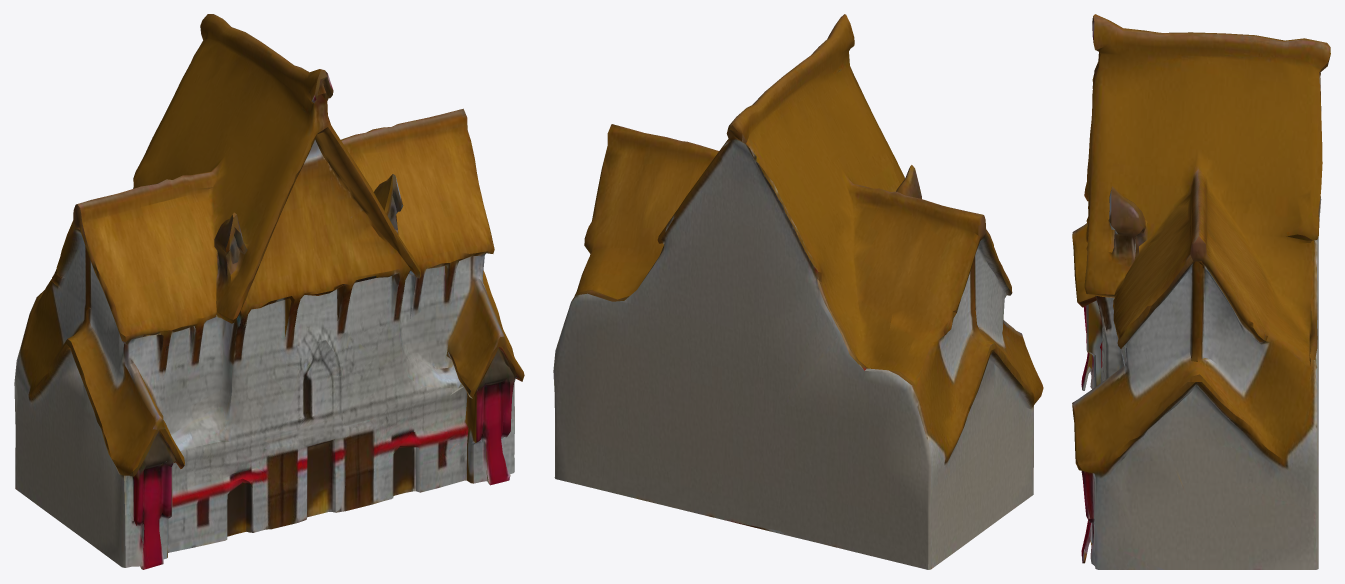
The model's file is tawantinsuyu_kallanka_real.glb.
3 renders of one model, left to right at view 1: azimuth 30°, elevation 25°; view 2: azimuth 150°, elevation 25°; view 3: azimuth 270°, elevation 25°, orthographic. The views are drawn at different scales.
Parts seen in each view (by area): view 1: geometry_0; view 2: geometry_0; view 3: geometry_0.
Boxes of the visible parts, bbox=[...] form: geometry_0: bbox=[14, 14, 524, 569]; geometry_0: bbox=[553, 14, 1043, 569]; geometry_0: bbox=[1072, 14, 1330, 569].
Bounding box in the file's own units: 3.4 × 3.62 × 1.85.
Materials: 1 (1 with a texture image).
